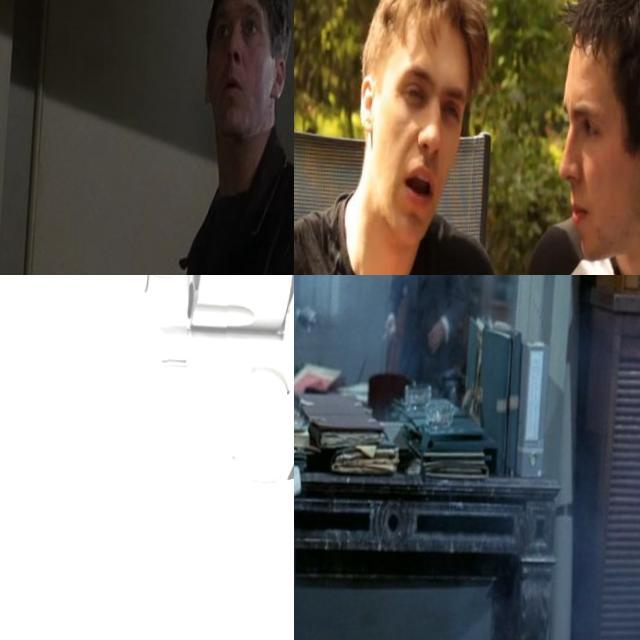gun-knife-thesis - v11 Yolov5 augmented: (0, 275, 294, 640), (294, 517, 330, 621)
